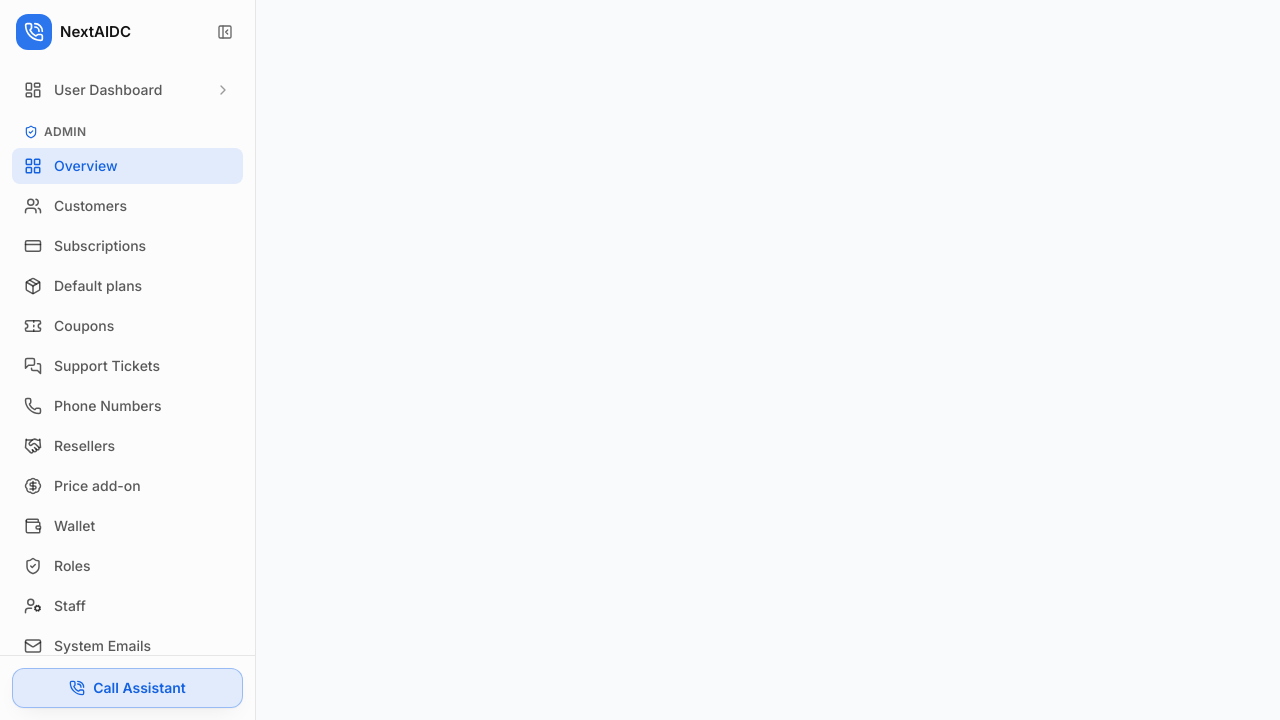
Test: Sidebar — the admin's User Dashboard panel › opens the panel with every module (Plans & Billing included) and closes it from its close button
This screenshot has width=1280, height=720.
Click the button "User Dashboard" at (128, 90), box 12,72 -> 243,108
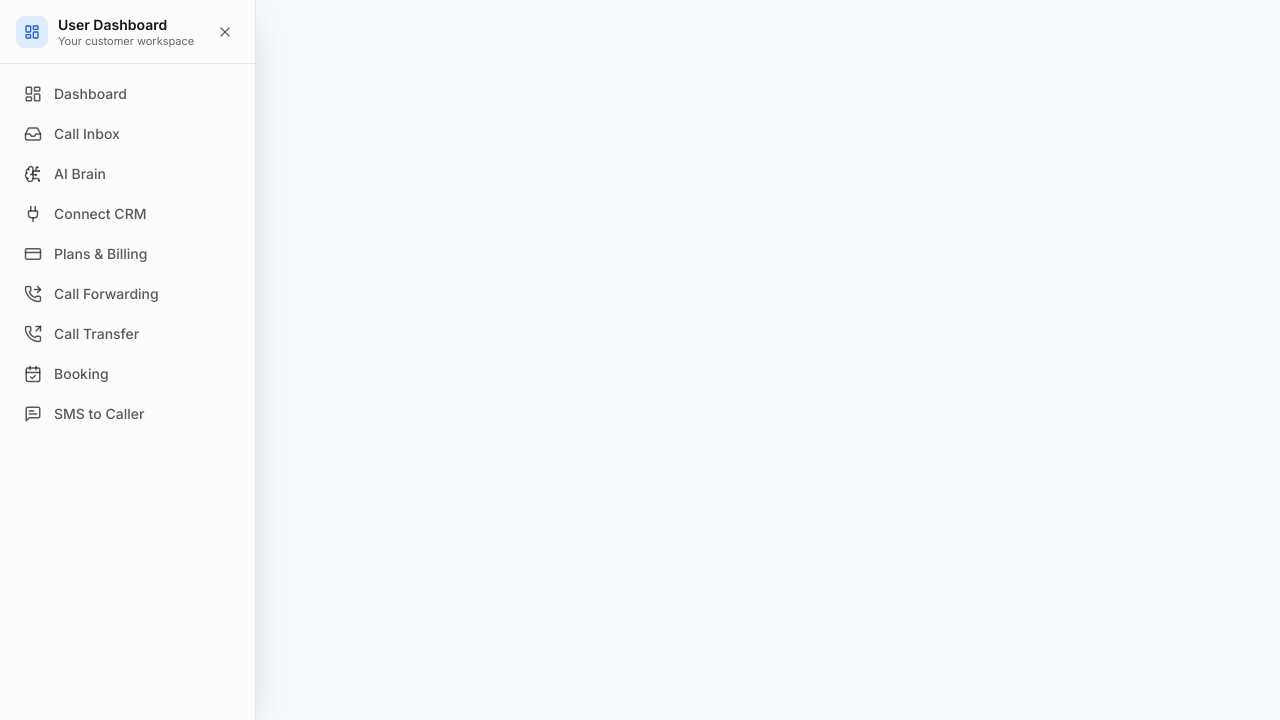
Expected: the dialog "User Dashboard" is shown, 0,0 -> 256,719
Expected: the button "User Dashboard" is expanded, 12,72 -> 243,108
Expected: the link "Dashboard" is shown, 24,85 -> 127,103
Click the button named "Close User Dashboard" at (225, 32), box 211,18 -> 239,46
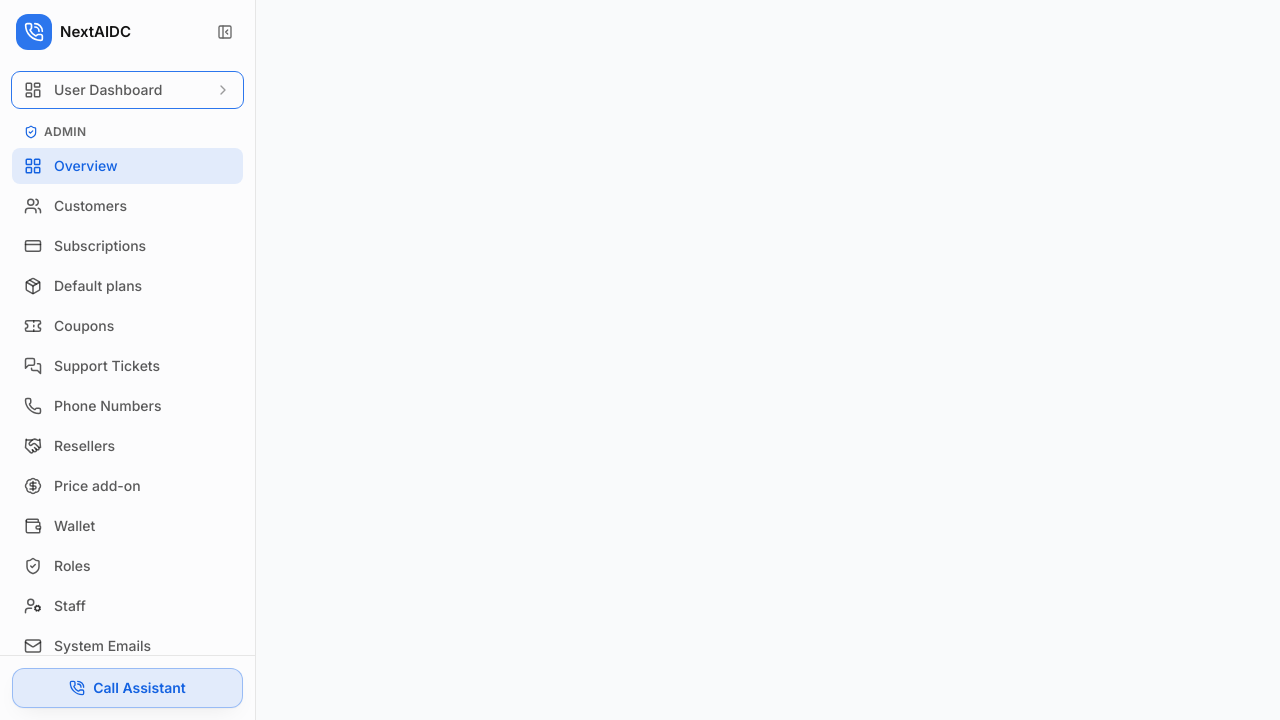
Expected: the button "User Dashboard" is collapsed, 12,72 -> 243,108
Expected: the link "Call Inbox" is gone
